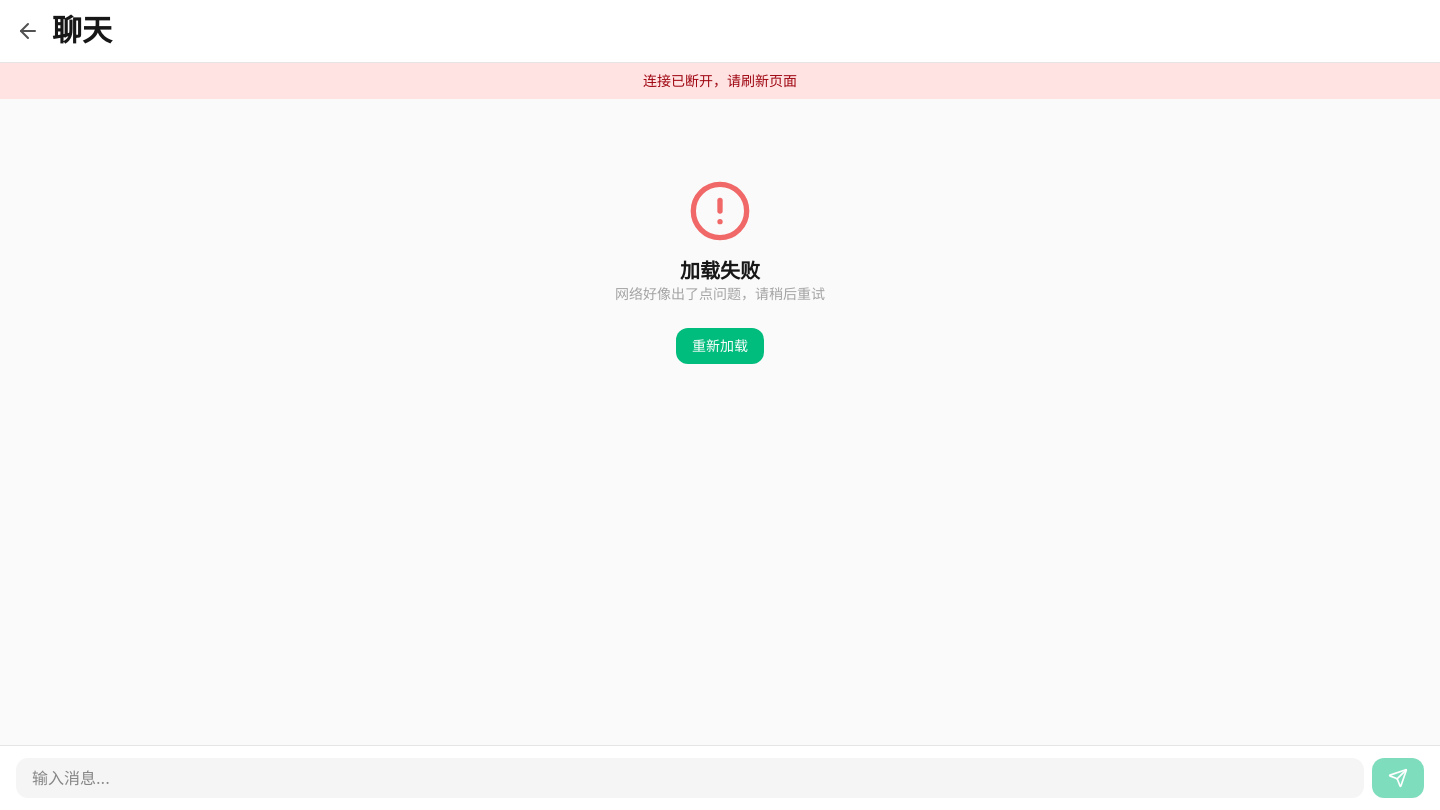
Chat 聊天交互 › 首次加载失败显示 Empty error 与重新加载按钮，点击后重新触发请求
This screenshot has width=1440, height=810.
Check: the heading "加载失败" is shown, box [680,258,760,284]
点击重新加载触发 useEffect 重跑
Click the button "重新加载" at {"x": 720, "y": 346}, box [676,328,764,364]
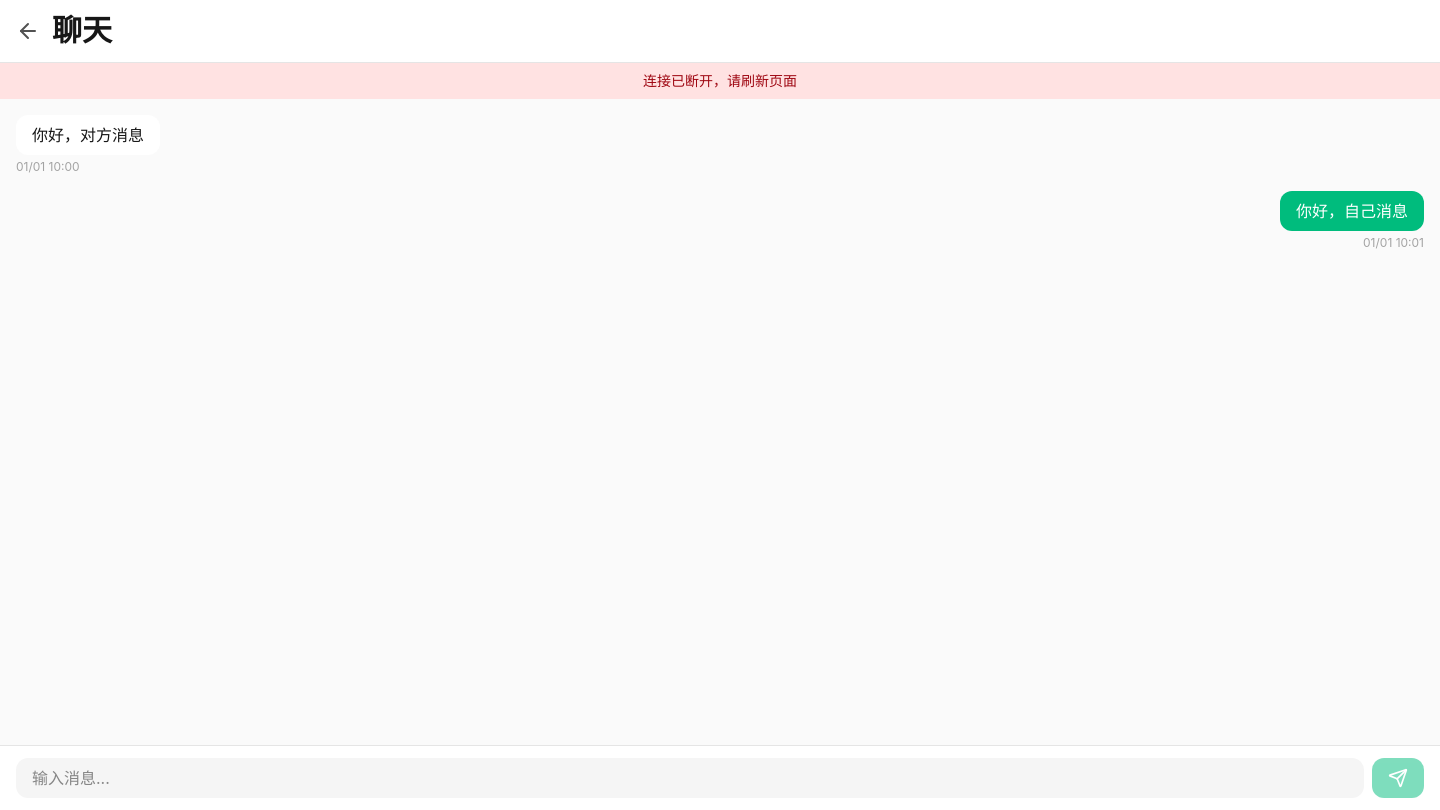
Check: the text "你好，对方消息" is shown, box [16,114,160,154]
